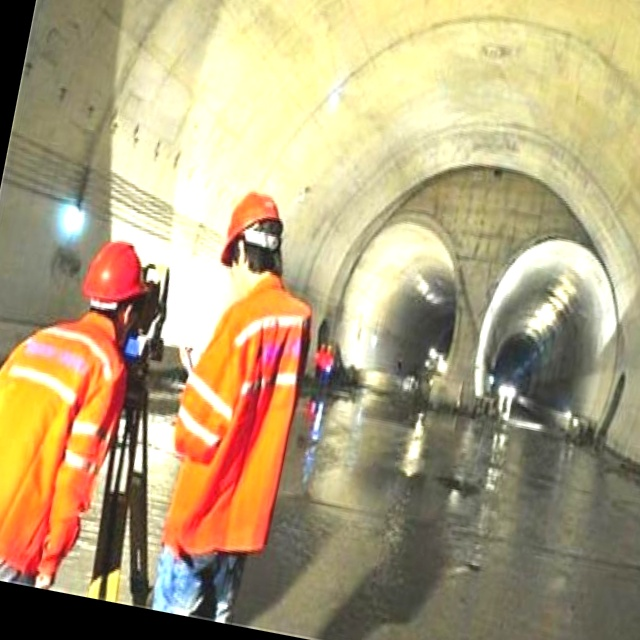Con_Casco: (216, 187, 288, 291)
Con_Chaleco: (165, 289, 311, 556), (0, 302, 124, 565)
